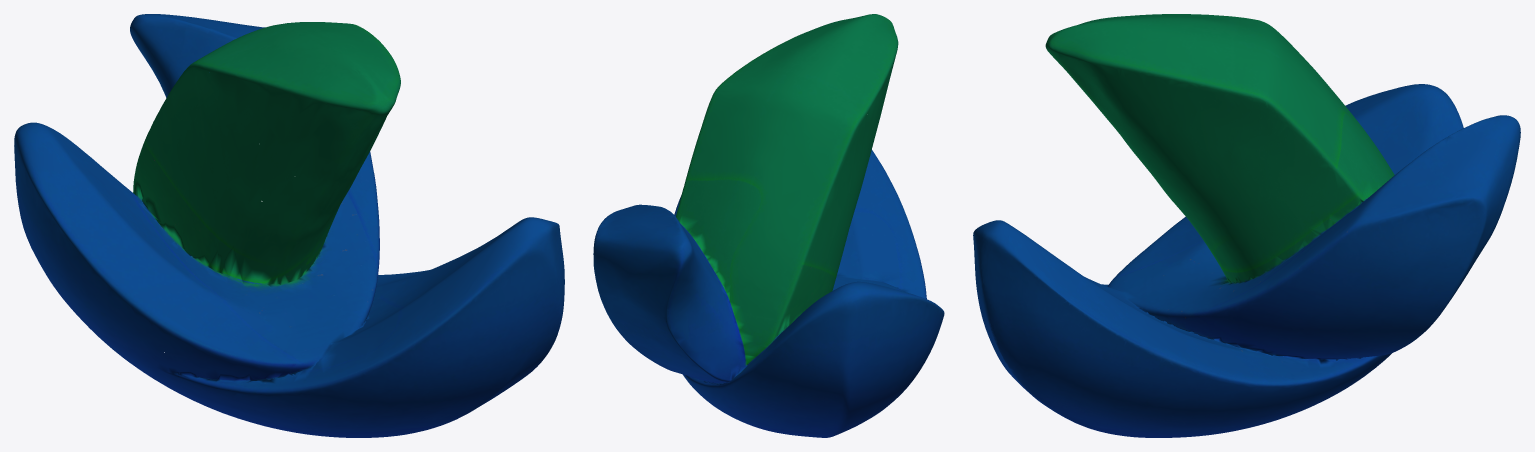
The model's file is feishu.glb.
3 renders of one model, left to right at view 1: azimuth 30°, elevation 25°; view 2: azimuth 150°, elevation 25°; view 3: azimuth 270°, elevation 25°, orthographic. The views are drawn at different scales.
Parts seen in each view (by area): view 1: tripo_node_852d38c7-988c-4f6c-8b7a-f66dad14e412; view 2: tripo_node_852d38c7-988c-4f6c-8b7a-f66dad14e412; view 3: tripo_node_852d38c7-988c-4f6c-8b7a-f66dad14e412.
Part boxes in pixels (<box>): tripo_node_852d38c7-988c-4f6c-8b7a-f66dad14e412: <box>14,14,564,437</box>; tripo_node_852d38c7-988c-4f6c-8b7a-f66dad14e412: <box>593,14,944,437</box>; tripo_node_852d38c7-988c-4f6c-8b7a-f66dad14e412: <box>973,14,1520,437</box>.
Bounding box in the file's own units: 0.7625 × 0.7707 × 0.9796.
1 material, 1 textured.
